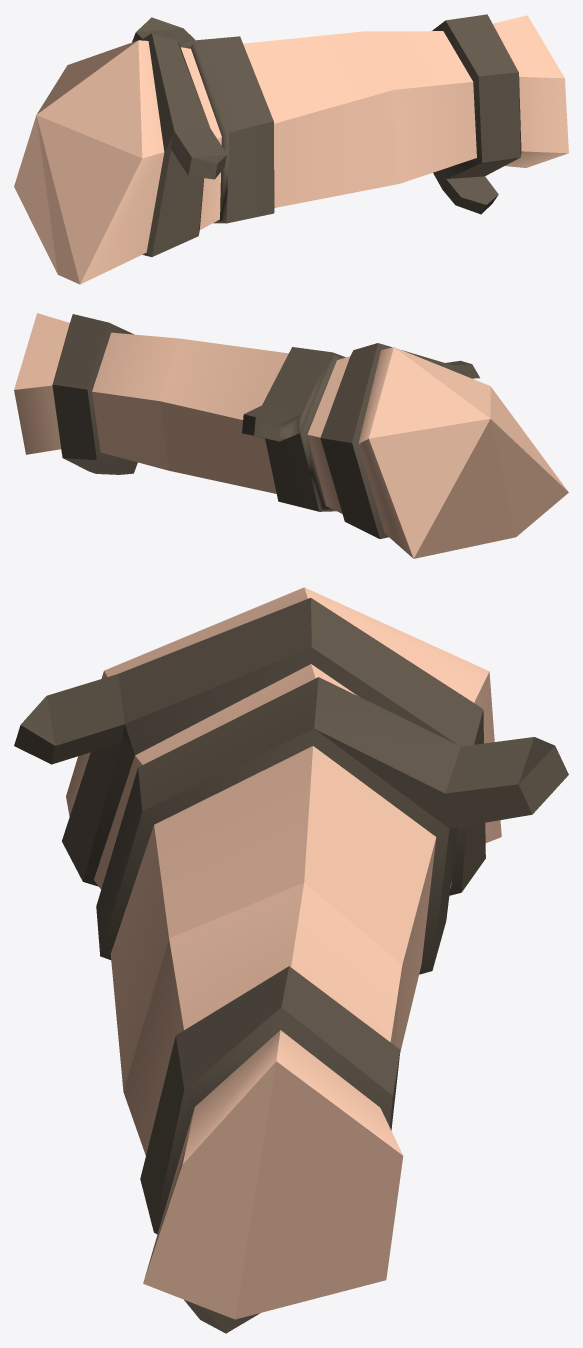
Rendered from Chr_ArmUpperLeft_Female_03_Static.fbx.
The picture shows the model from 3 angles, top to bottom: view 1: azimuth 30°, elevation 25°; view 2: azimuth 150°, elevation 25°; view 3: azimuth 270°, elevation 25°; orthographic projection. The views are drawn at different scales.
Visible parts, largest first — view 1: Chr_ArmUpperLeft_Female_03_Static; view 2: Chr_ArmUpperLeft_Female_03_Static; view 3: Chr_ArmUpperLeft_Female_03_Static.
Part boxes in pixels (x1=…): Chr_ArmUpperLeft_Female_03_Static: x1=14, y1=14, x2=568, y2=284; Chr_ArmUpperLeft_Female_03_Static: x1=14, y1=313, x2=568, y2=558; Chr_ArmUpperLeft_Female_03_Static: x1=14, y1=587, x2=568, y2=1333.
Size of the model in its own units: 0.3535 by 0.1527 by 0.1732.
